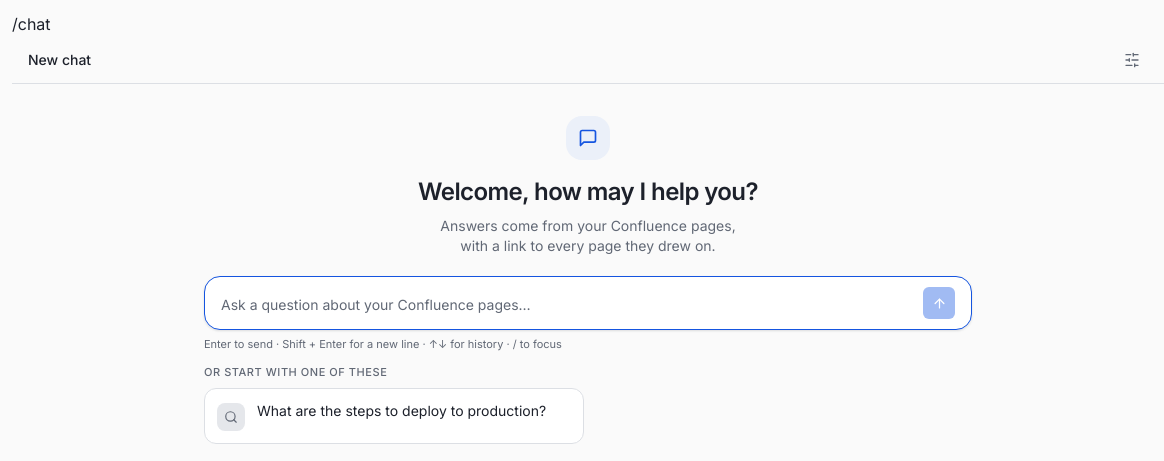
Test: opening a new chat › only gives the conversation a URL once the first message is sent
Expected: the text with test id "location" reads "/chat", [12, 14, 51, 34]
Type "Where are the runbooks?" into the text box labelled "Ask a question about your Confluence pages…".
click(568, 305); type("Where are the runbooks?")  # box [221, 291, 915, 319]
Then press Enter
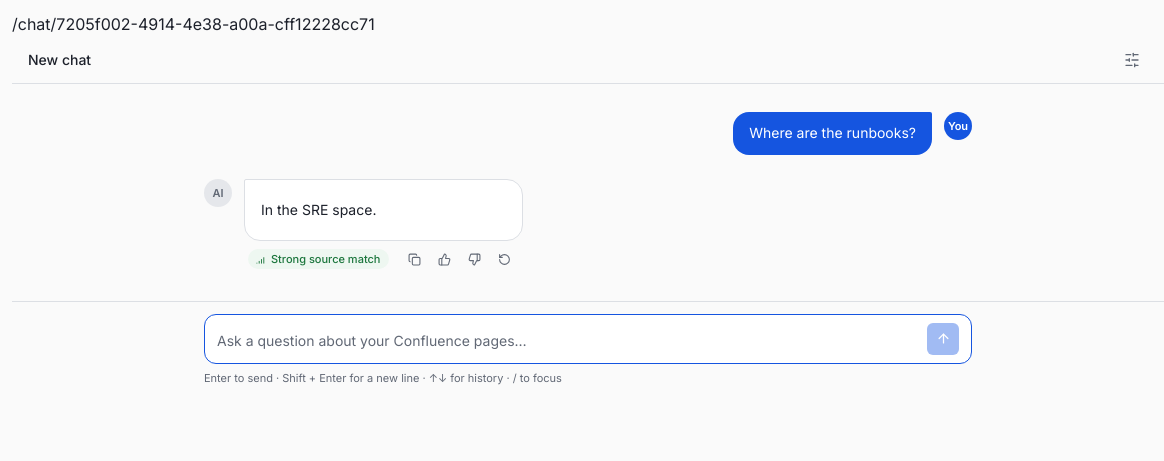
Result: the text "In the SRE space." is shown at [261, 201, 376, 218]
